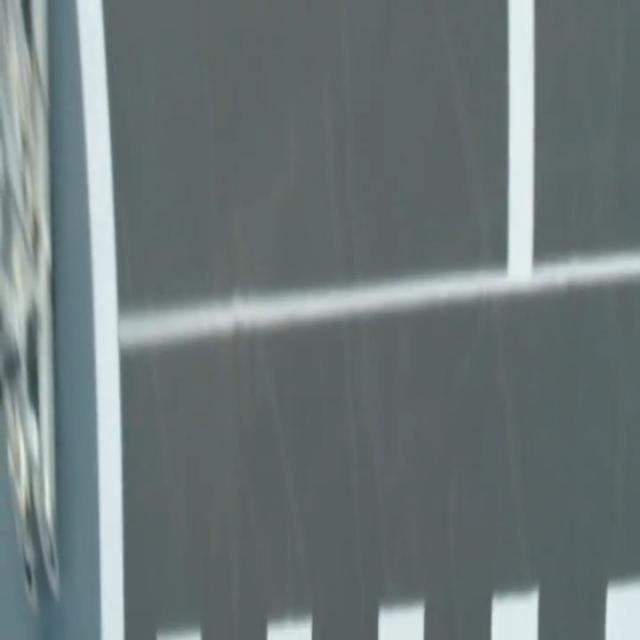center: (507, 0, 534, 278)
left: (76, 0, 124, 639)
